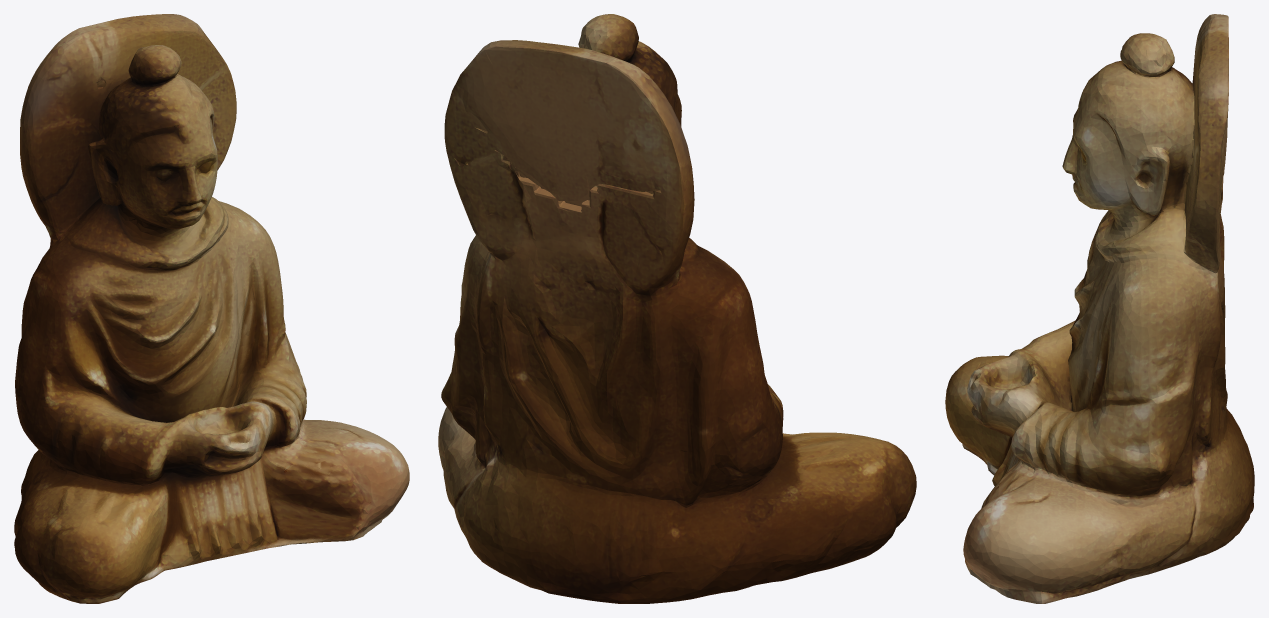
File: Buddha.glb
3 views of the same model, side by side, from view 1: azimuth 30°, elevation 25°; view 2: azimuth 150°, elevation 25°; view 3: azimuth 270°, elevation 25° (orthographic). The views are drawn at different scales.
Parts seen in each view (by area): view 1: world; view 2: world; view 3: world.
Part boxes in pixels (left/top/right/bottom): world: left=14, top=14, right=409, bottom=603; world: left=438, top=14, right=916, bottom=603; world: left=945, top=14, right=1254, bottom=603.
Bounding box in the file's own units: 1.58 × 1.84 × 1.08.
Materials: 1 (1 with a texture image).
